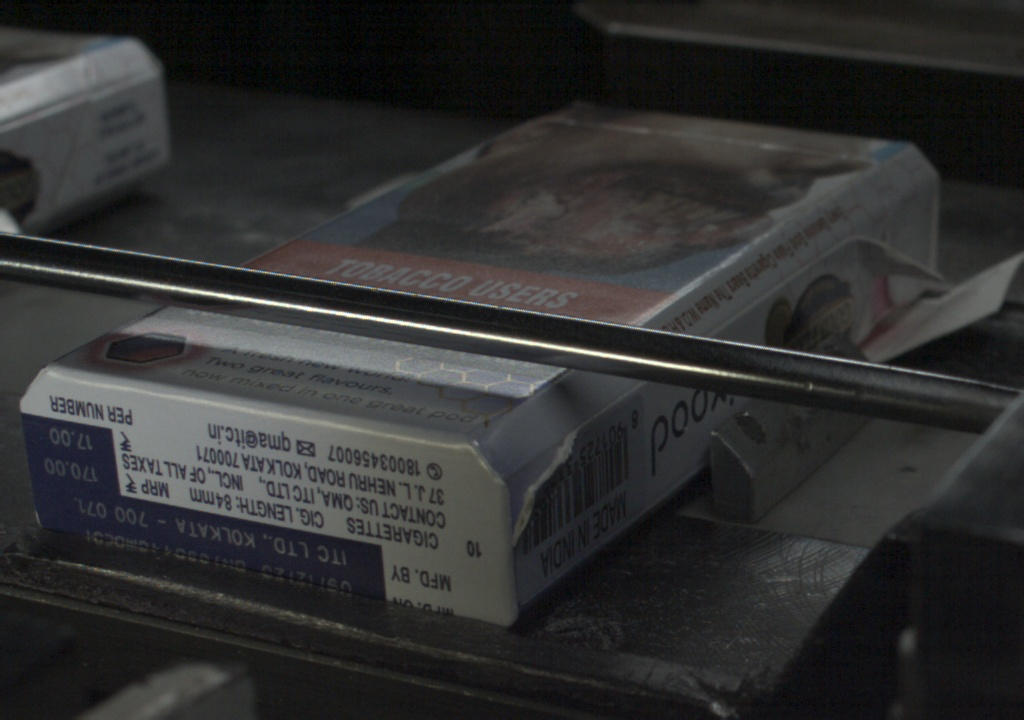g_bottom: (17, 364, 504, 629)
g_label: (34, 493, 385, 599)
g_lmiter: (721, 254, 821, 327), (588, 382, 643, 423)
ng_lmiter: (506, 429, 583, 538), (836, 218, 900, 269)
ng_miter: (895, 175, 939, 222)
price: (29, 421, 118, 491)
